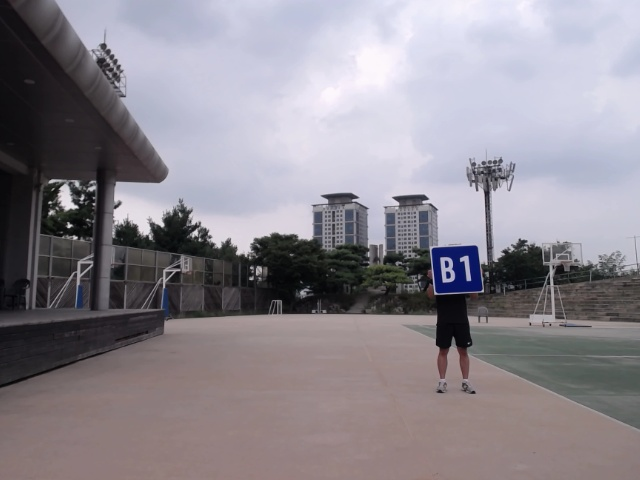delivery_b1: (431, 243, 483, 295)
